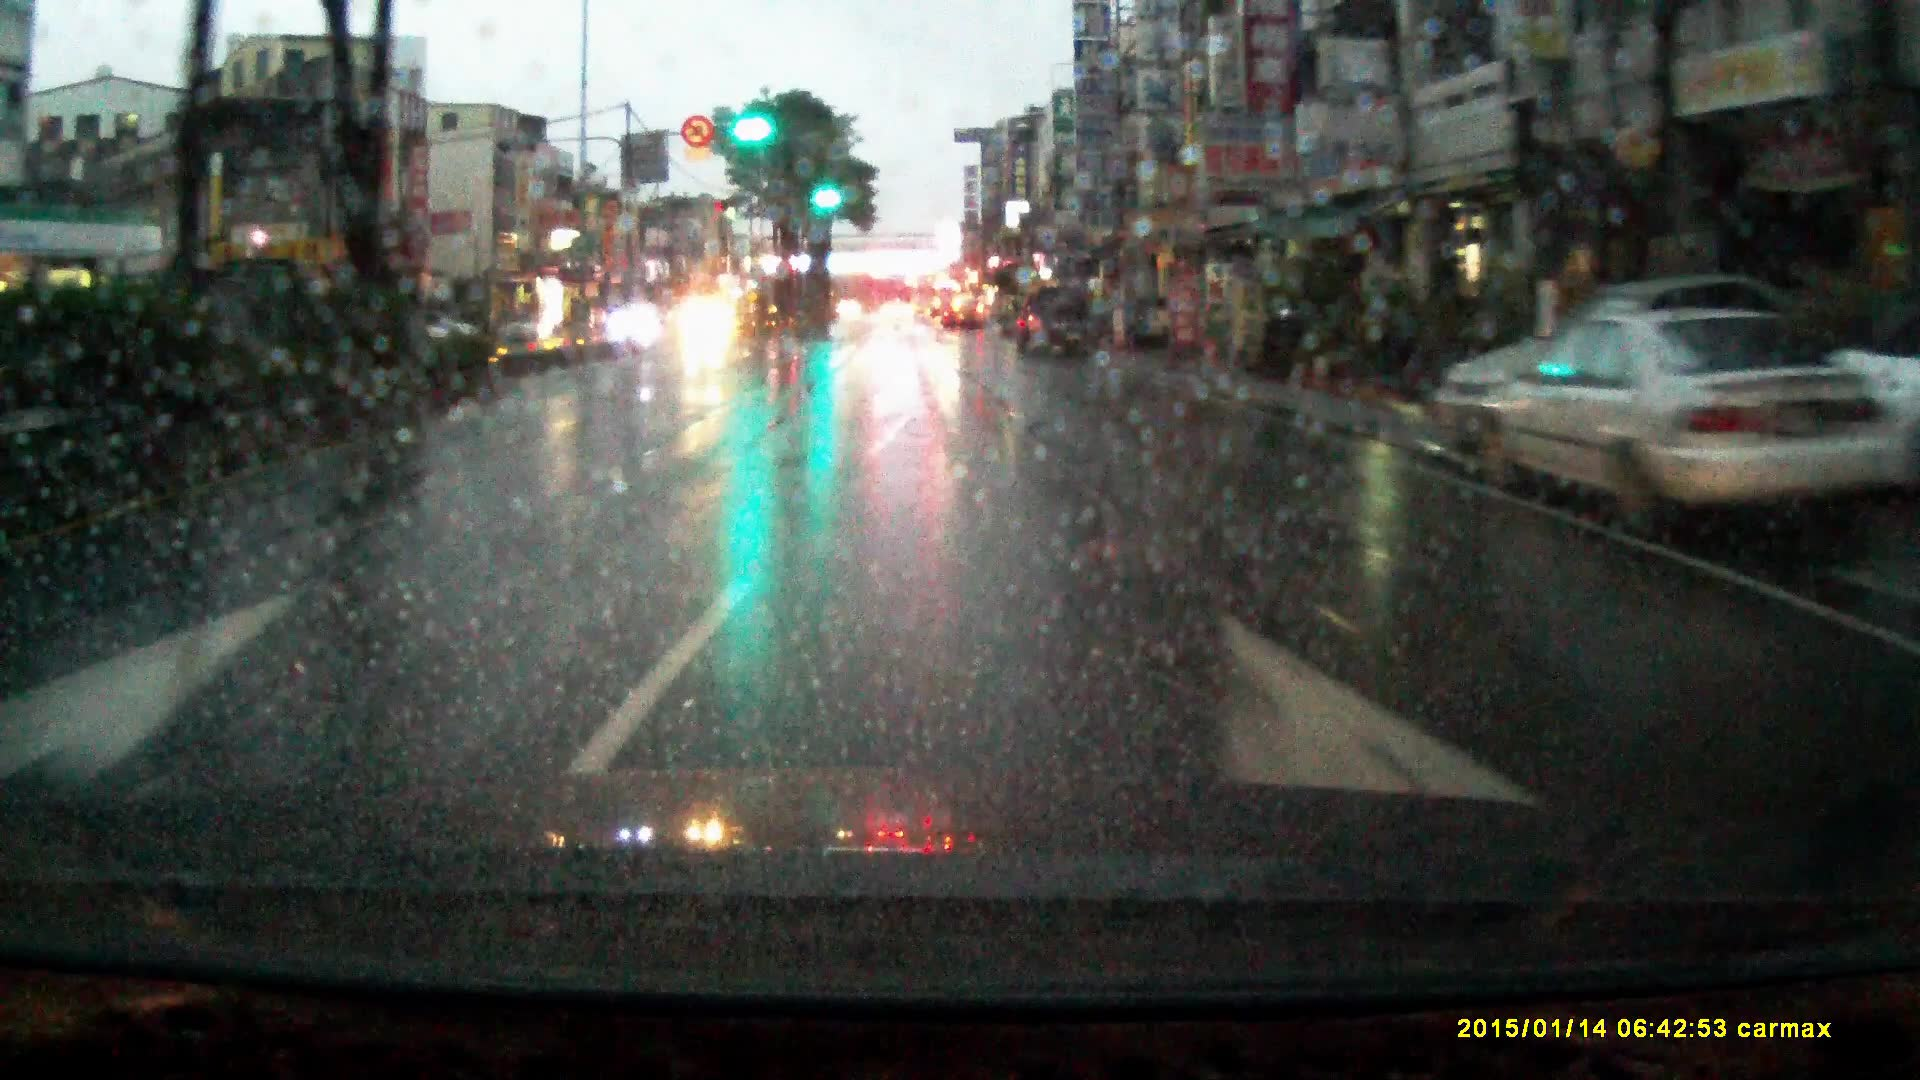vehicle: (1482, 318, 1832, 560), (1015, 284, 1098, 363), (674, 301, 742, 351), (607, 303, 666, 344), (491, 309, 554, 347), (942, 295, 986, 334), (911, 274, 943, 322), (881, 301, 918, 324)
